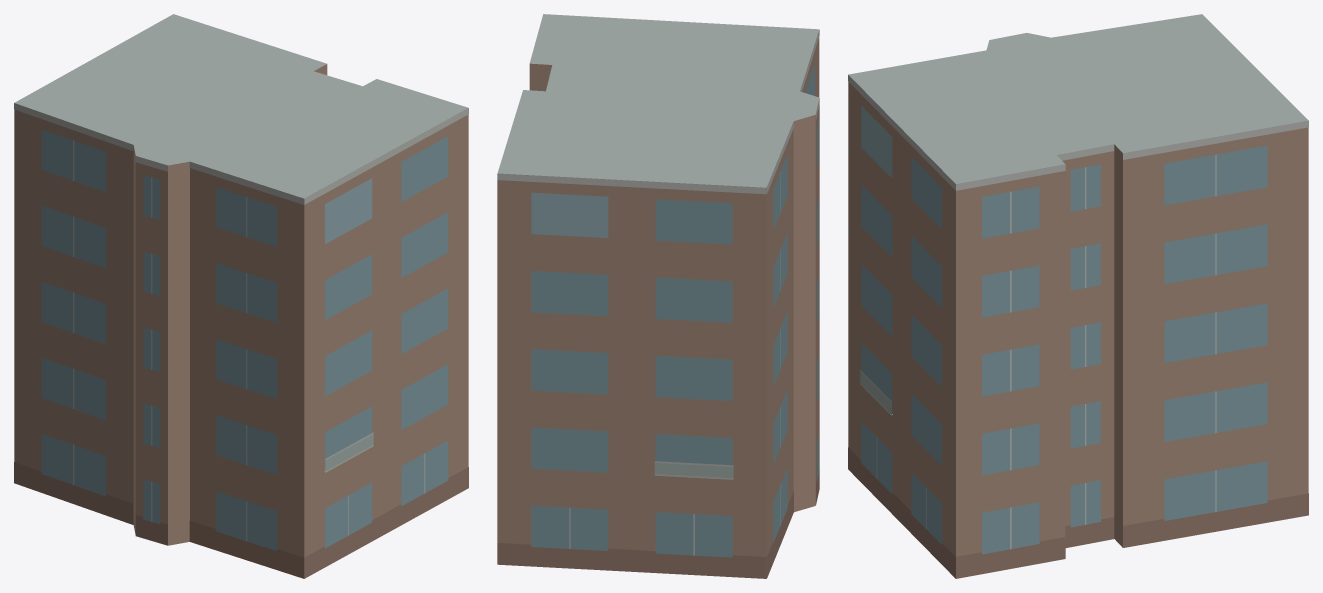
File: survey-upis-33019748.glb
3 views of the same model, side by side, from view 1: azimuth 30°, elevation 25°; view 2: azimuth 150°, elevation 25°; view 3: azimuth 270°, elevation 25° (orthographic). The views are drawn at different scales.
Parts seen in each view (by area): view 1: survey-upis-33019748.tmp; view 2: survey-upis-33019748.tmp; view 3: survey-upis-33019748.tmp.
Boxes of the visible parts, left/top/right/bottom form: survey-upis-33019748.tmp: left=14, top=14, right=468, bottom=578; survey-upis-33019748.tmp: left=497, top=14, right=819, bottom=578; survey-upis-33019748.tmp: left=848, top=14, right=1308, bottom=578.
Size of the model in its own units: 13.37 by 14.45 by 15.29.
